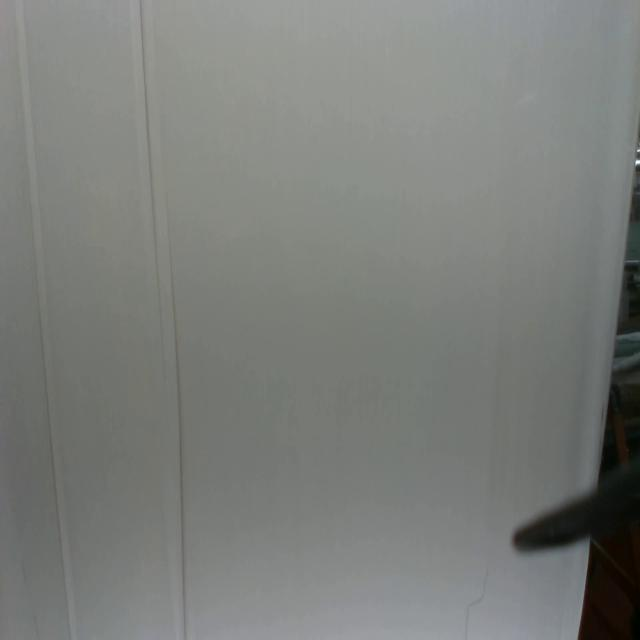crease: (16, 0, 76, 640), (137, 0, 165, 362), (168, 223, 188, 636)
